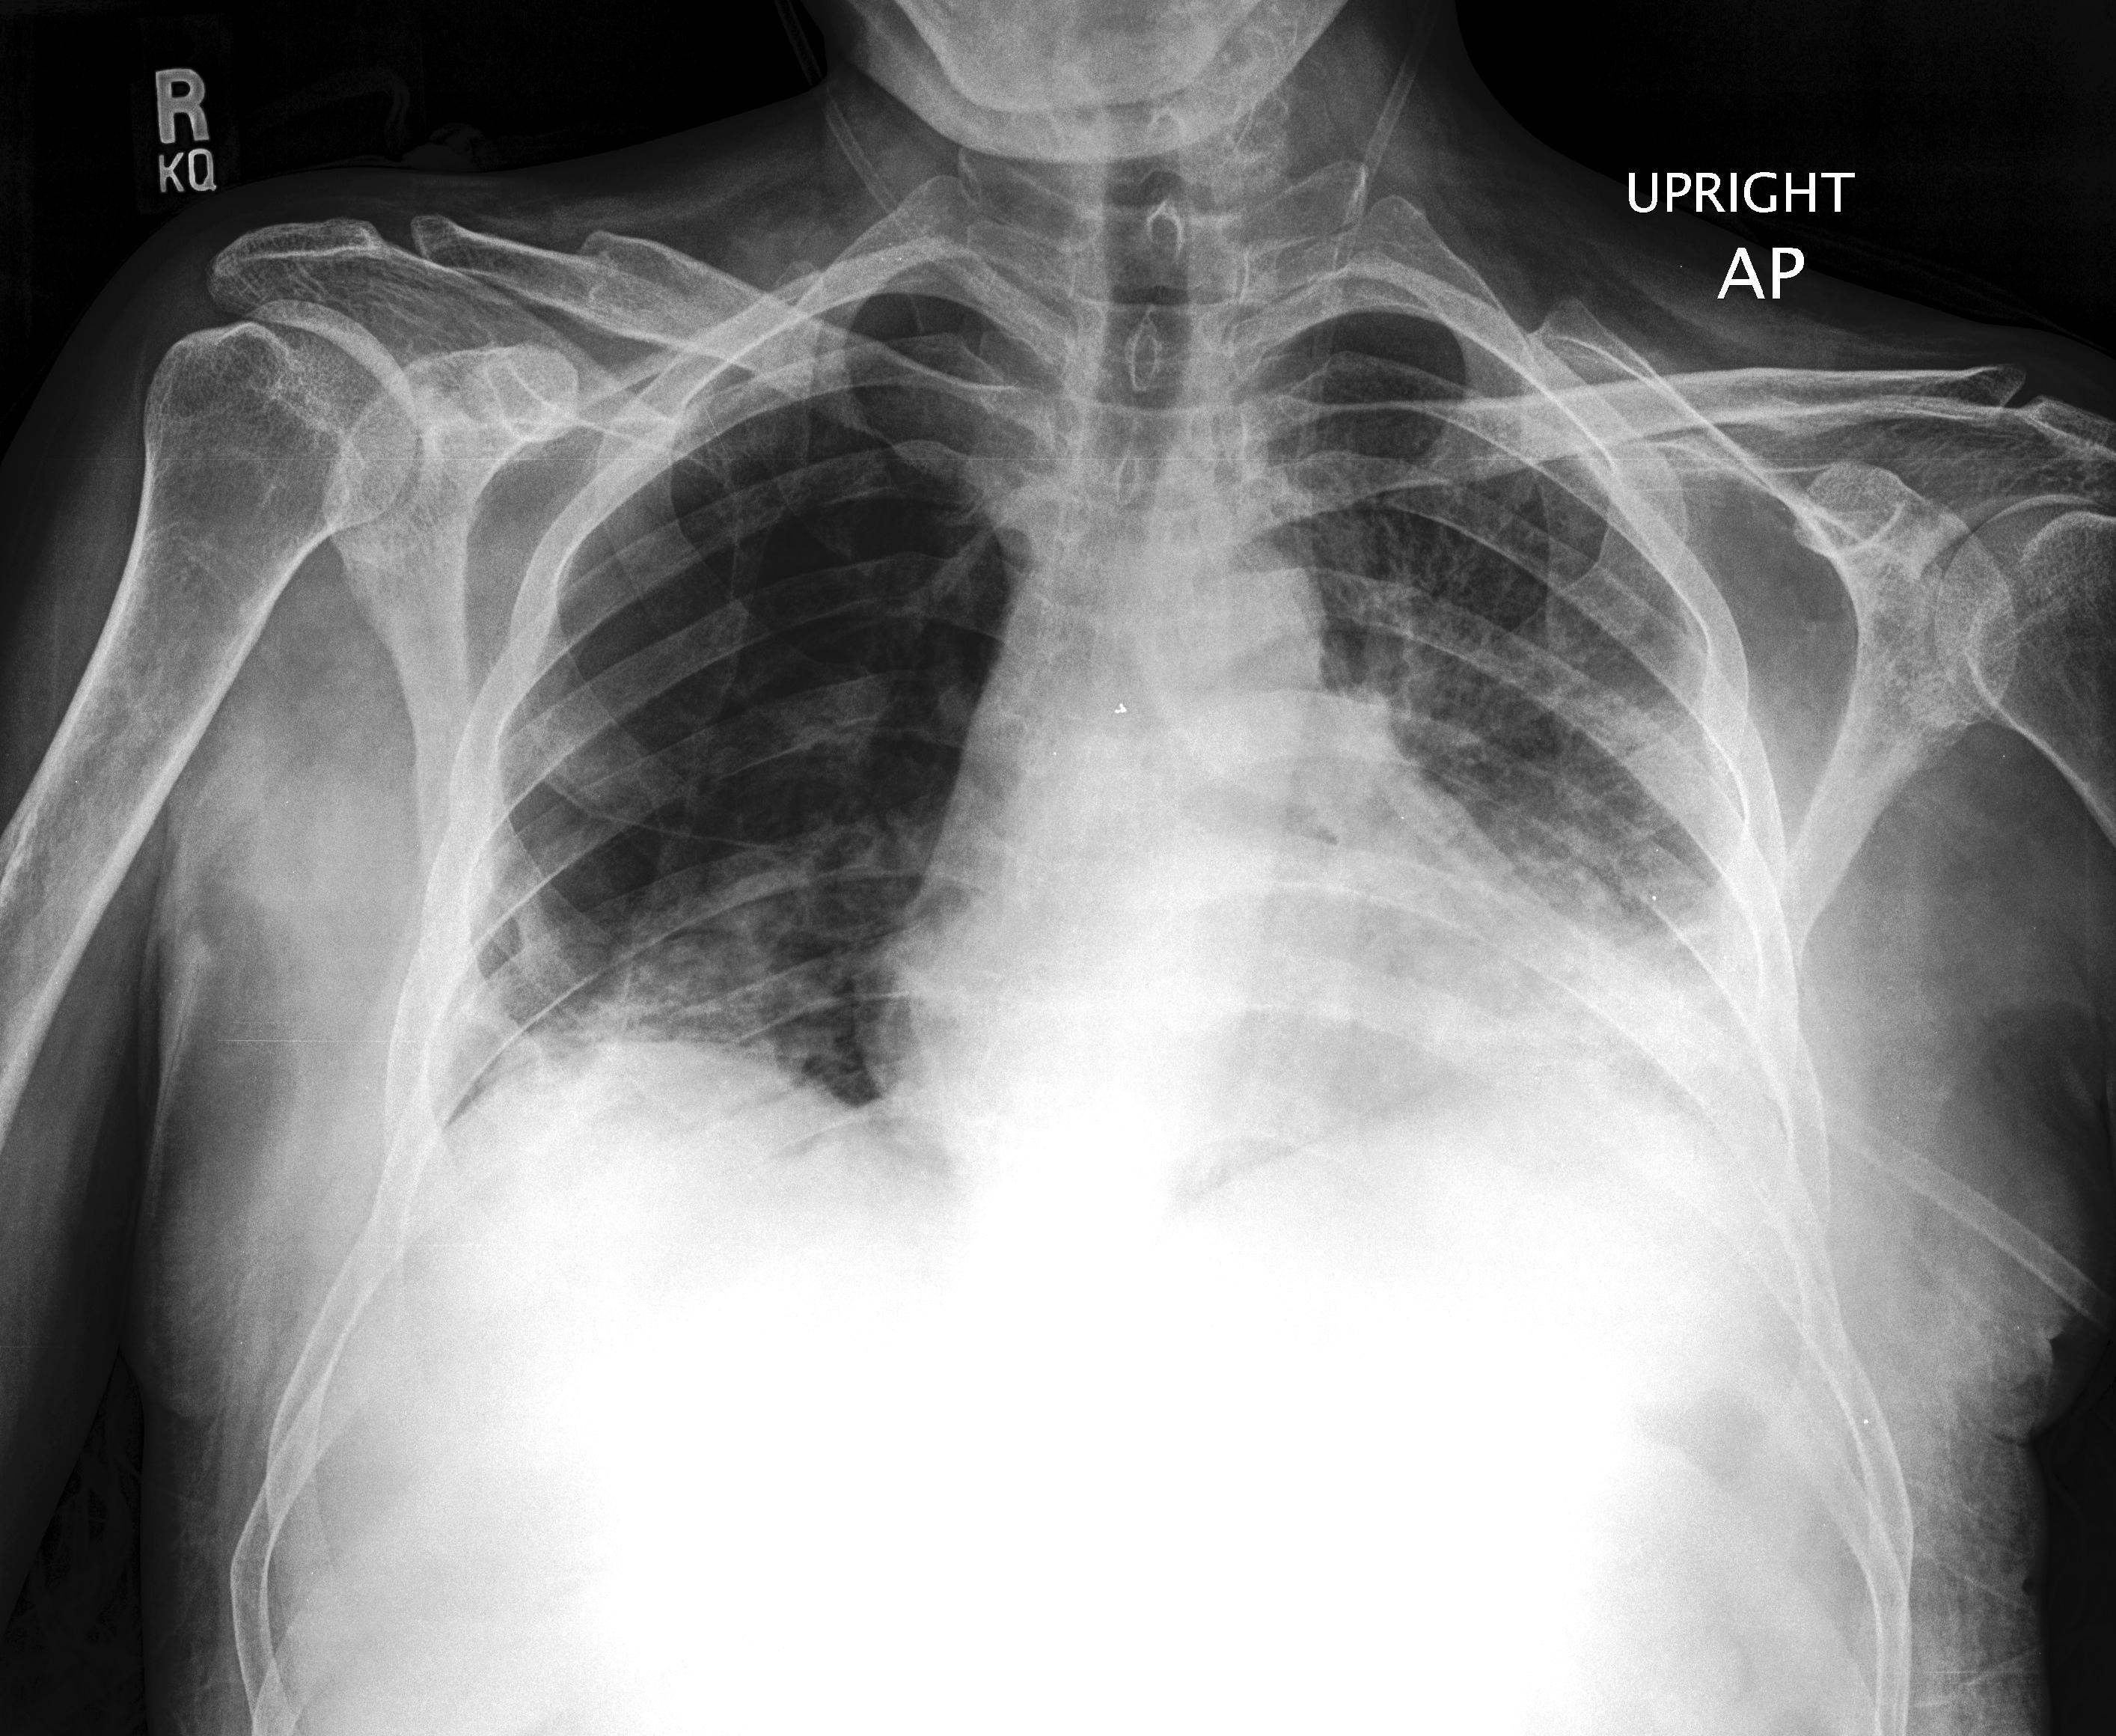Pleural Effusion: (1274, 901, 1865, 1516), (306, 917, 835, 1467)
